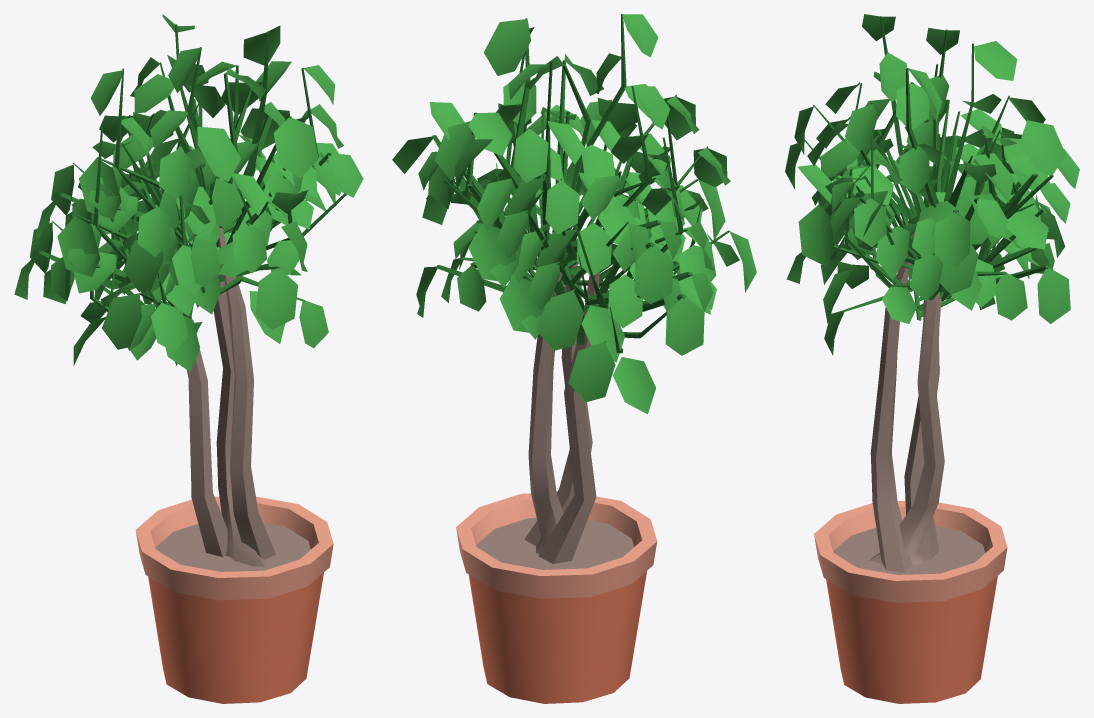
File: Plants_M3.fbx
3 renders of one model, left to right at view 1: azimuth 30°, elevation 25°; view 2: azimuth 150°, elevation 25°; view 3: azimuth 270°, elevation 25°, orthographic. The views are drawn at different scales.
Parts seen in each view (by area): view 1: Plants_M3; view 2: Plants_M3; view 3: Plants_M3.
Boxes of the visible parts, x1,y1,x2,y2 form: Plants_M3: (14, 14, 363, 703); Plants_M3: (392, 14, 756, 703); Plants_M3: (785, 14, 1079, 703).
Size of the model in its own units: 0.4885 by 0.965 by 0.4065.
Materials: 1 (1 with a texture image).
